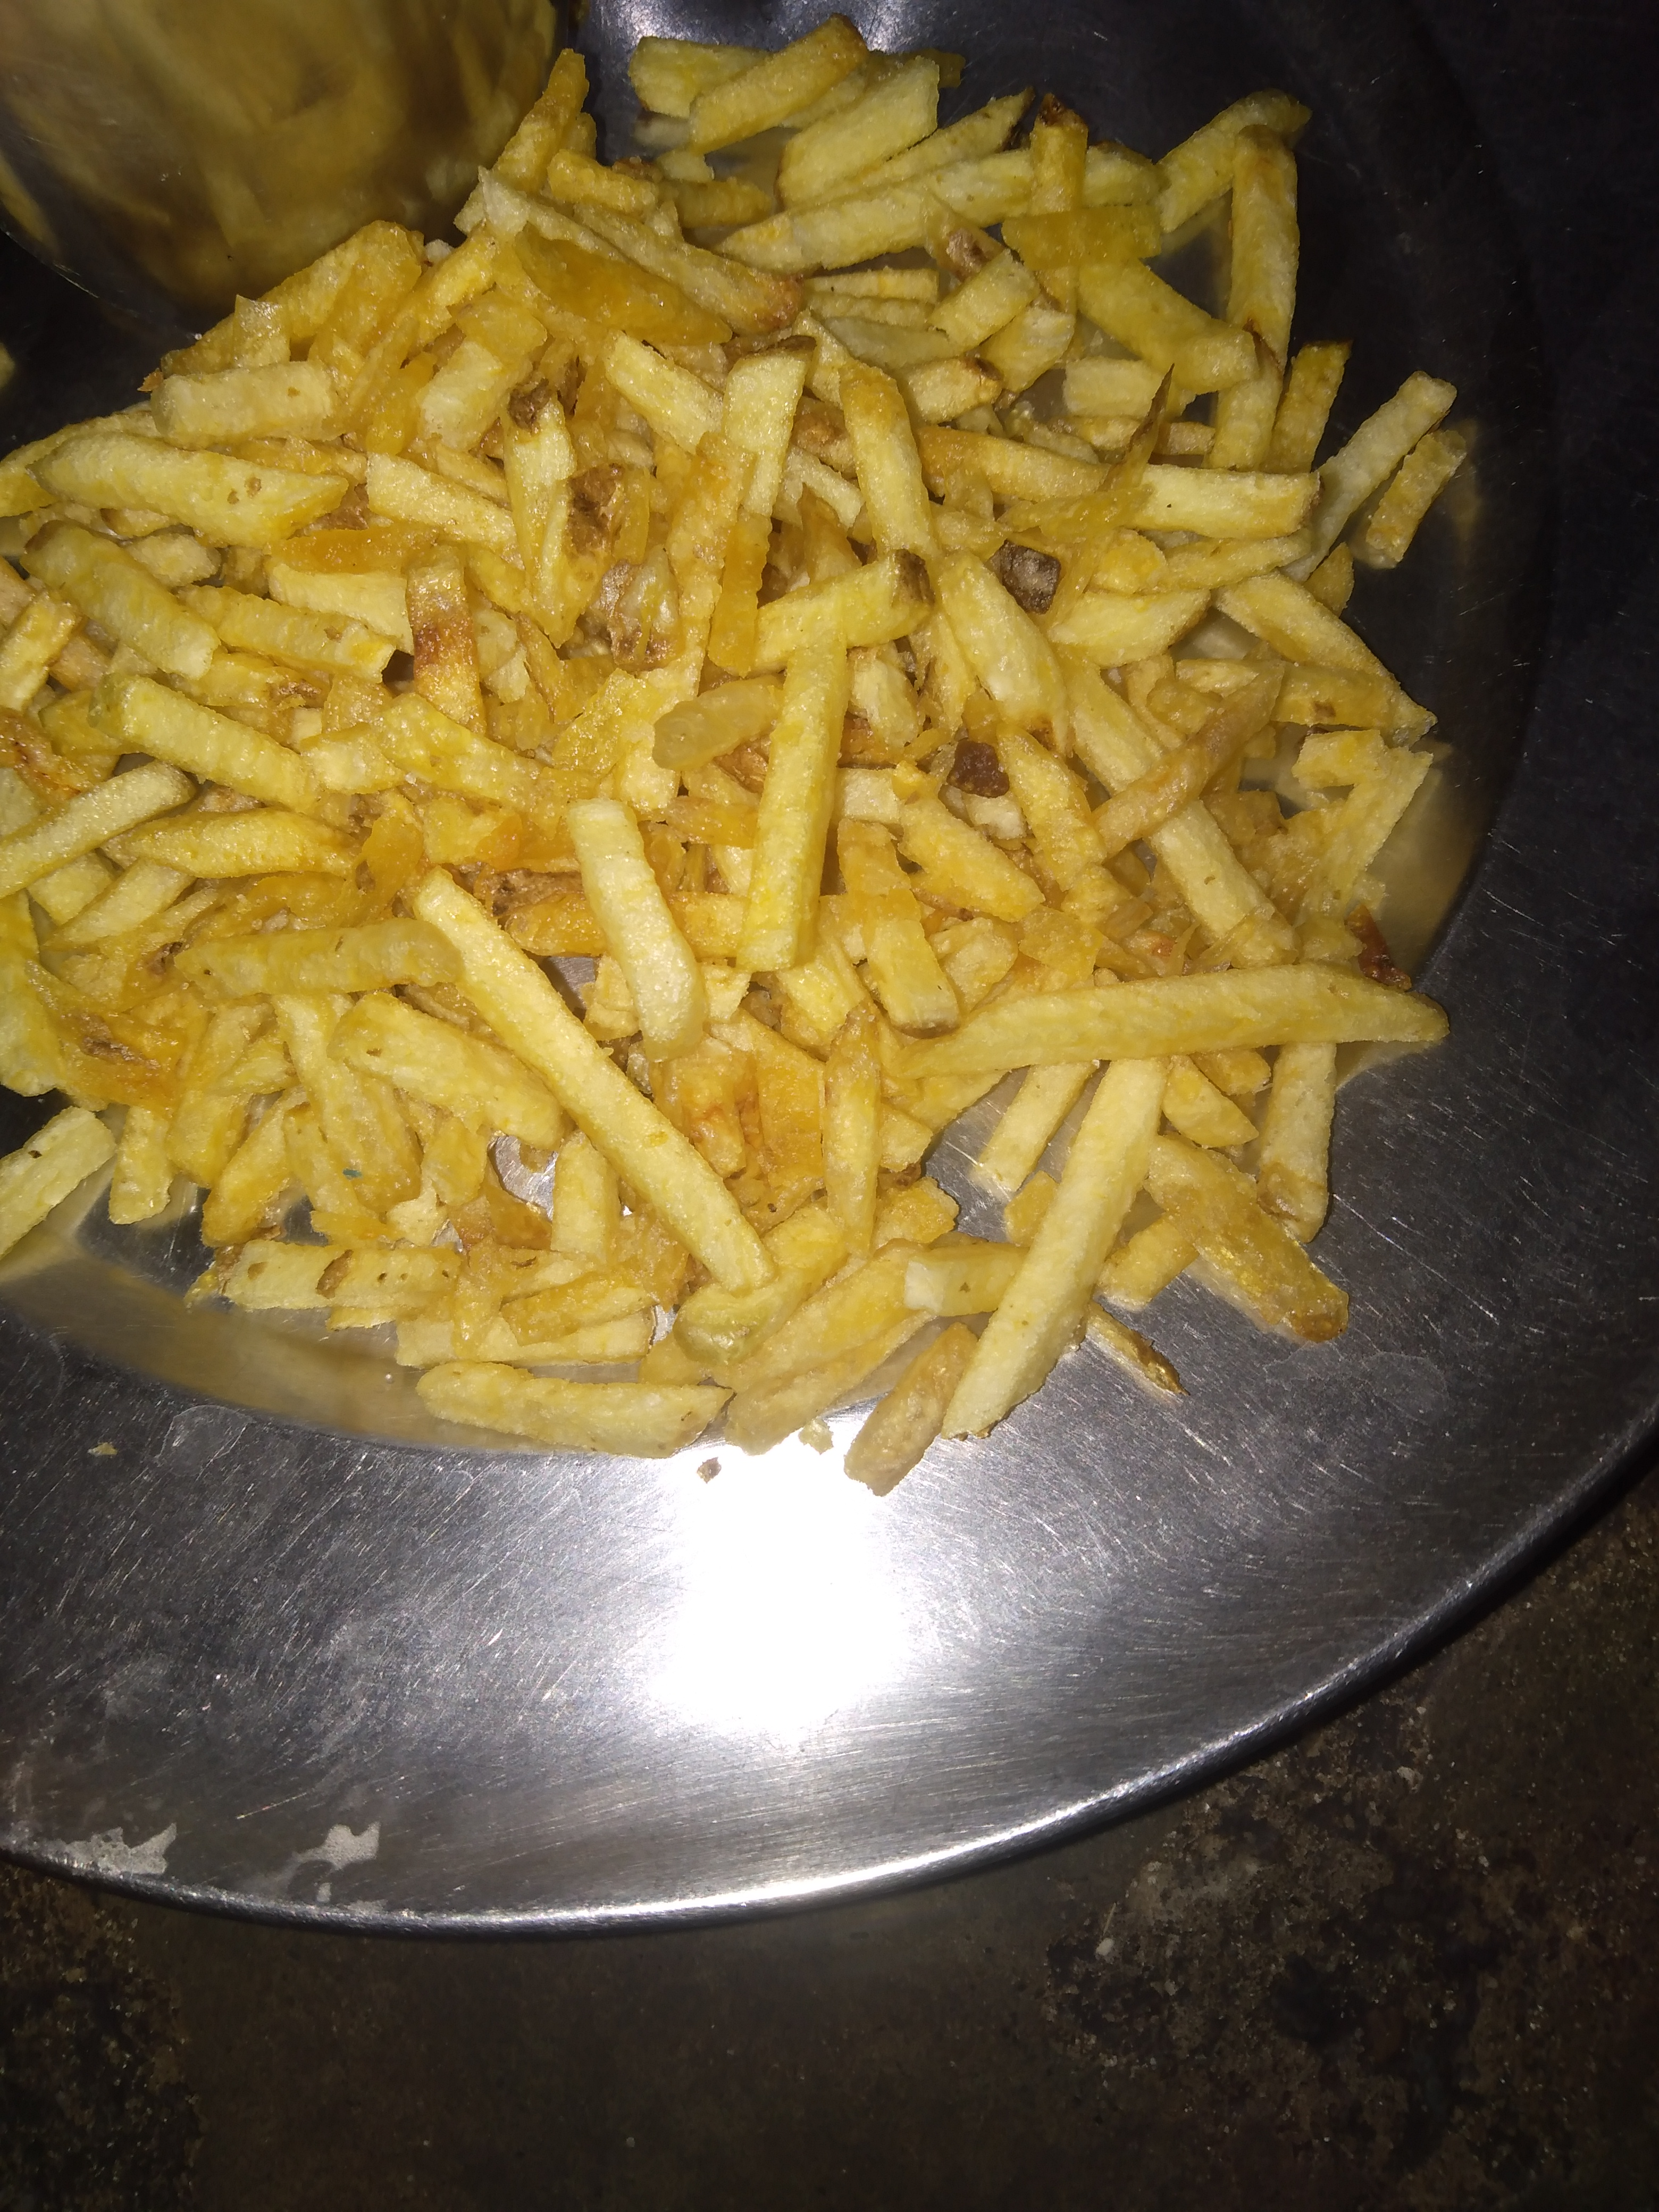food: (0, 7, 1473, 1505)
